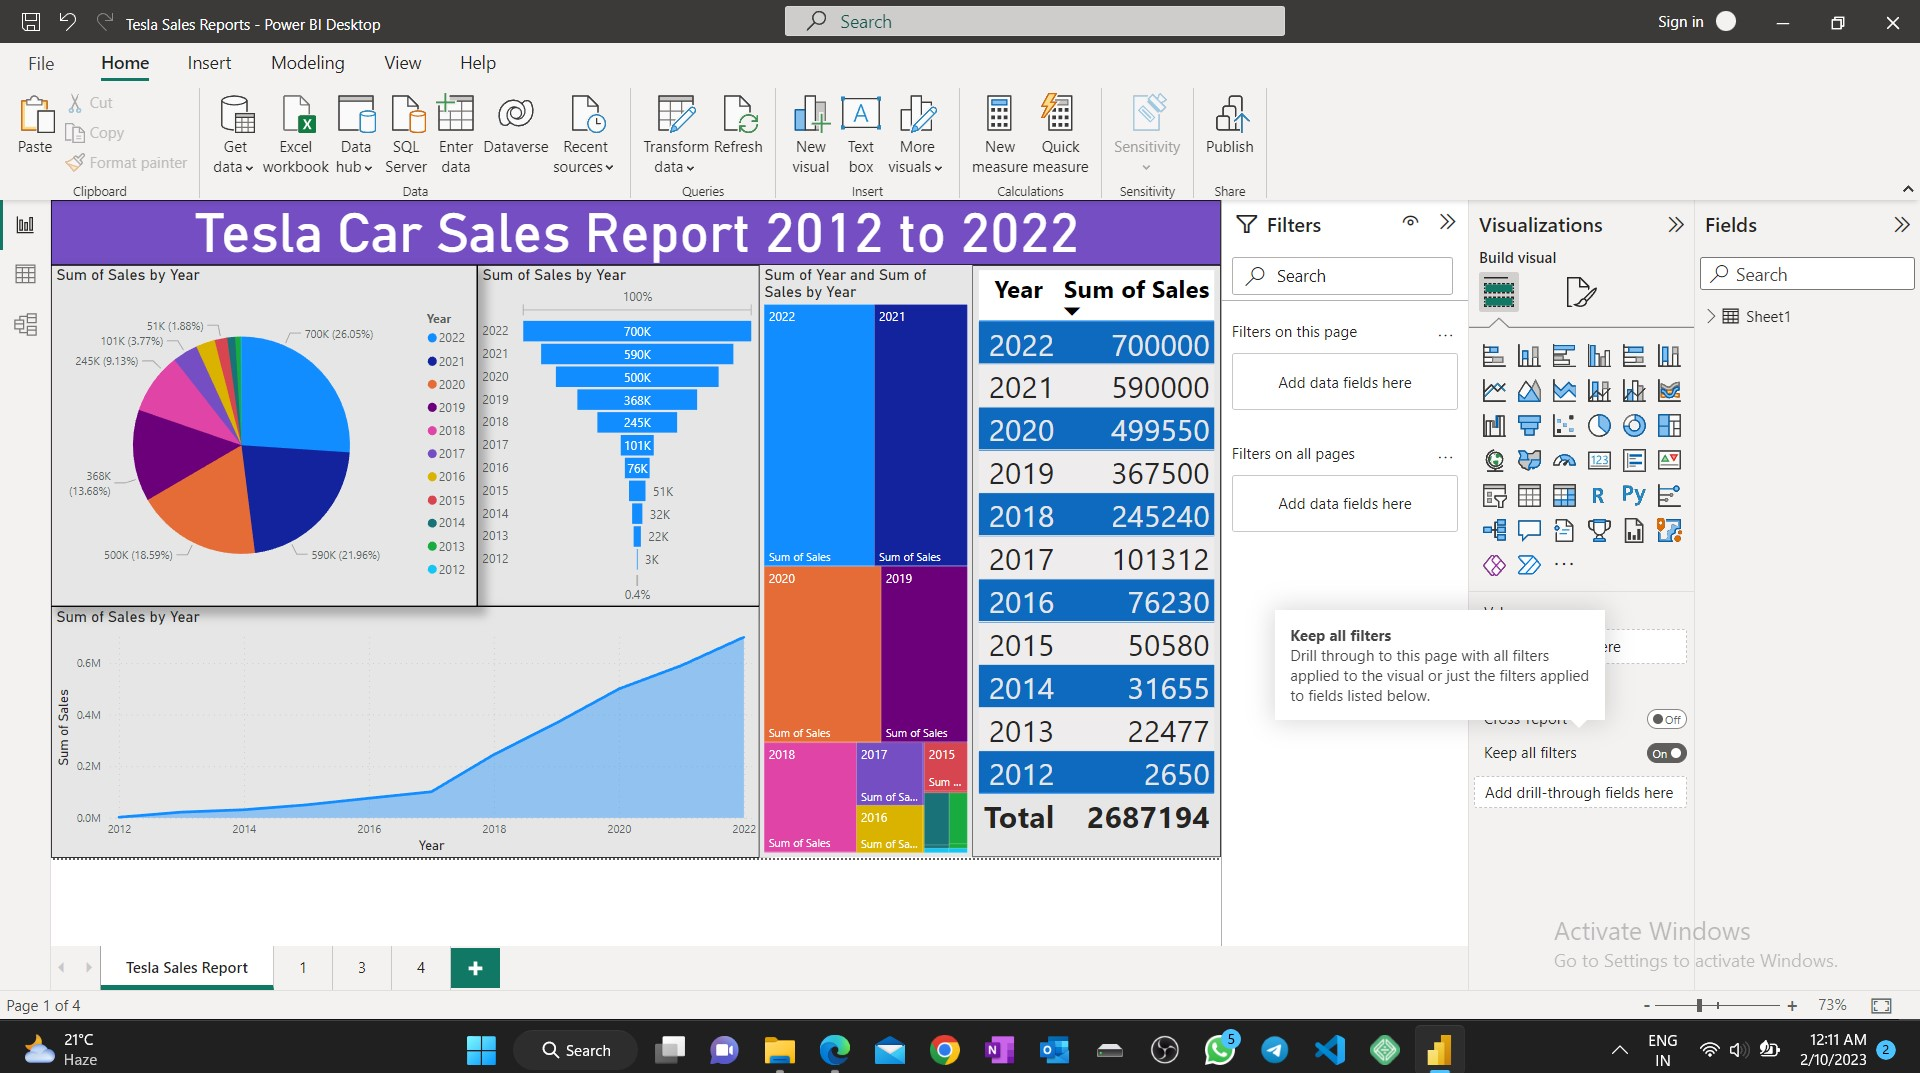

The dashboard page shown, as its layout file describes it:
{"tool":"powerbi","page":{"name":"Tesla Sales Report","canvas":[1280,720],"ordinal":0},"visuals":[{"type":"textbox","title":"Tesla Car Sales Report 2012 to 2022","box":[0,0,1280.3,71.1],"z":0},{"type":"funnel","fields":{"Category":["Sheet1.Year"],"Y":["Sum(Sheet1.Sales)"]},"box":[466.4,71.1,309.1,373.4],"z":1000},{"type":"areaChart","fields":{"Category":["Sheet1.Year"],"Y":["Sum(Sheet1.Sales)"]},"box":[0,444.5,775.6,274.9],"z":2000},{"type":"tableEx","fields":{"Values":["Sheet1.Year","Sum(Sheet1.Sales)"]},"box":[1008.1,71.1,272.2,648.3],"z":3000},{"type":"treemap","fields":{"Group":["Sheet1.Year"],"Values":["Sum(Sheet1.Year)","Sum(Sheet1.Sales)"]},"box":[775.6,71.1,232.5,648.3],"z":4000},{"type":"pieChart","fields":{"Category":["Sheet1.Year"],"Y":["Sum(Sheet1.Sales)"]},"box":[0,71.1,466.4,373.4],"z":5000}]}

Visuals, with their boxes on the page's 1280x720 design canvas (x1, y1, x2, y2). These are canvas units, not pixel positions in the 1920x1073 screenshot, which may show the page scaled, cropped or inside an application window:
"Tesla Car Sales Report 2012 to 2022" textbox: region(0, 0, 1280, 71)
funnel - Sheet1.Year x Sum(Sheet1.Sales): region(466, 71, 776, 444)
areaChart - Sheet1.Year x Sum(Sheet1.Sales): region(0, 444, 776, 719)
tableEx - Sheet1.Year x Sum(Sheet1.Sales): region(1008, 71, 1280, 719)
treemap - Sheet1.Year x Sum(Sheet1.Year): region(776, 71, 1008, 719)
pieChart - Sheet1.Year x Sum(Sheet1.Sales): region(0, 71, 466, 444)
